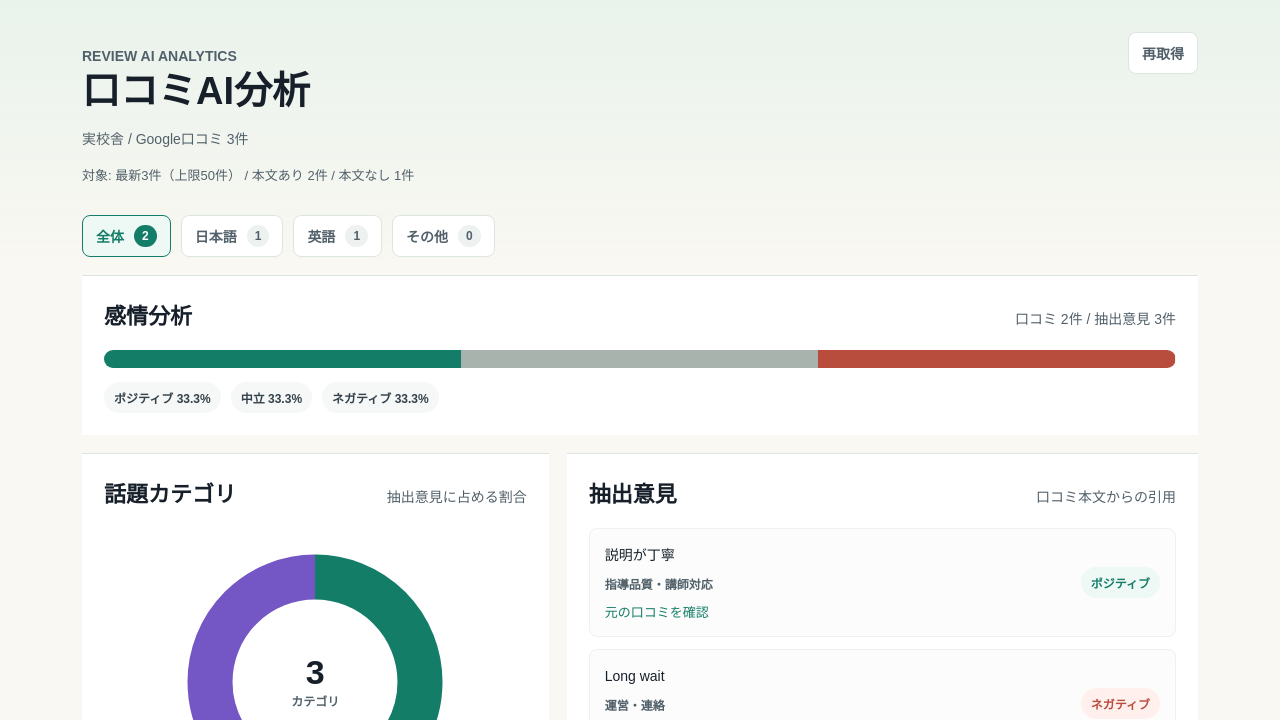
Test: review analytics UI › renders actual counts, quoted opinions, and filters without further AI requests
Expected: the text "実校舎 / Google口コミ 3件" is shown, [82,131,248,147]
Expected: the text "ポジティブ 33.3%" is shown, [104,382,221,413]
Click the button "日本語 1" at (232, 236), box [181,215,283,257]
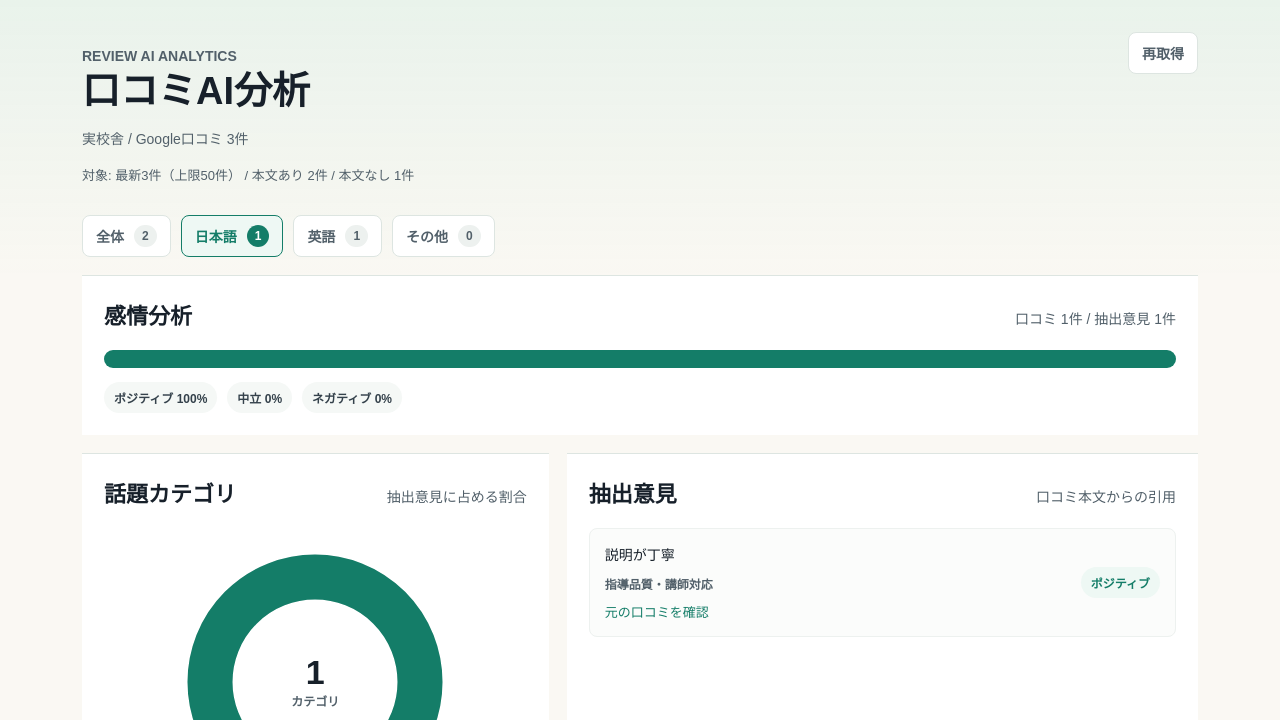
Now the text "ポジティブ 100%" is shown, box [104,382,217,413]
Now the text "Long wait" is gone
Click the button "英語 1" at (338, 236), box [293,215,382,257]
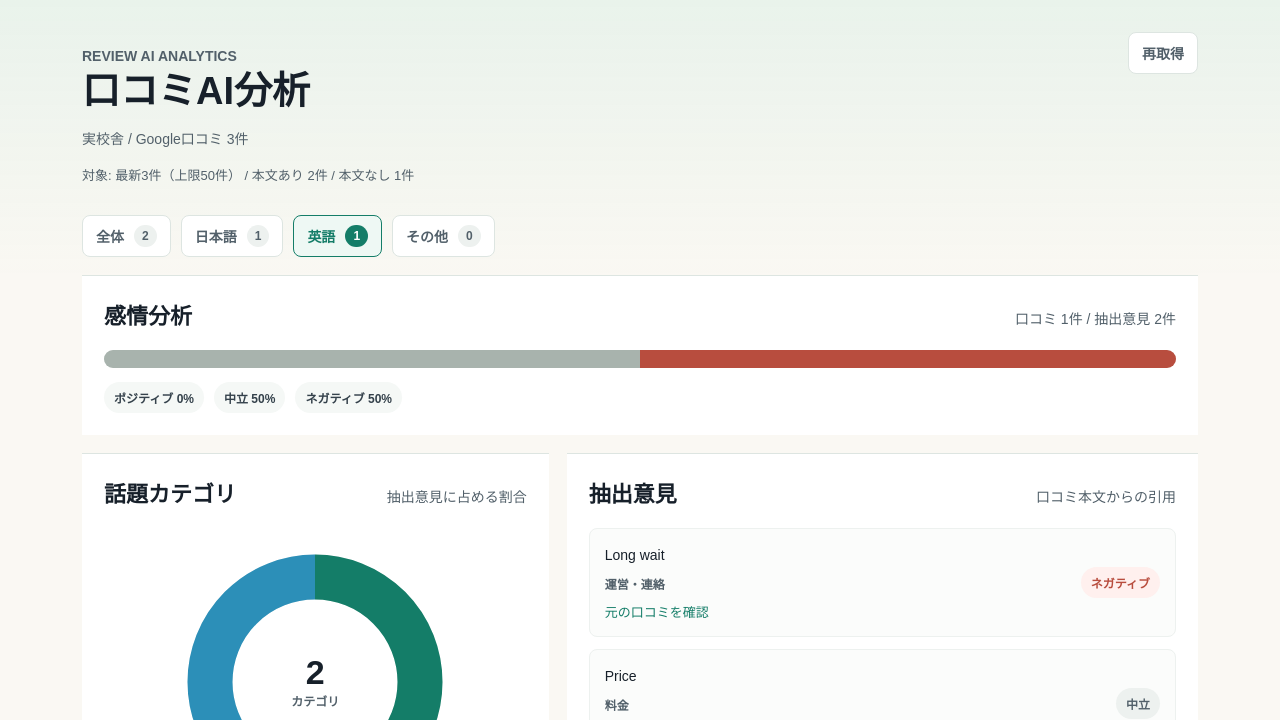
Now the text "Long wait" is shown, box [605,547,664,563]
Now the text "ネガティブ 50%" is shown, box [295,382,402,413]
Click the button "その他 0" at (443, 236), box [392,215,495,257]
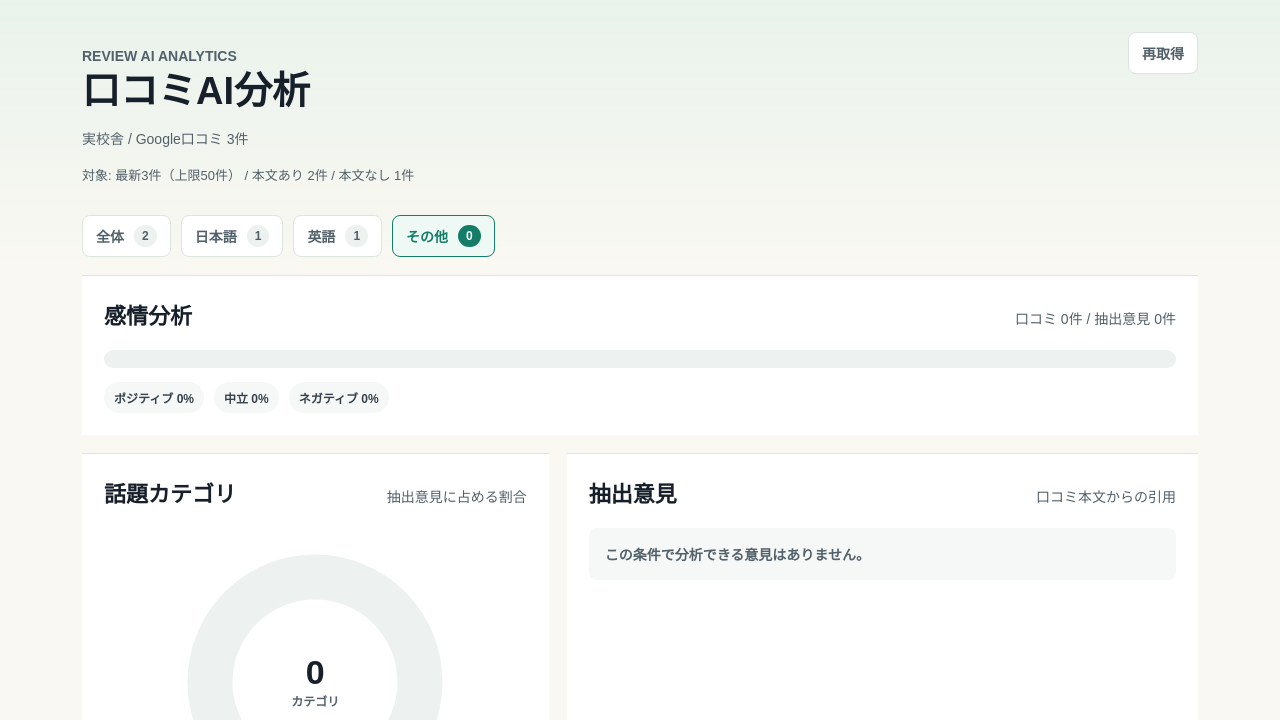
Now the text "この条件で分析できる意見はありません。" is shown, box [589,528,1176,580]
Click the button "全体 2" at (126, 236), box [82,215,171,257]
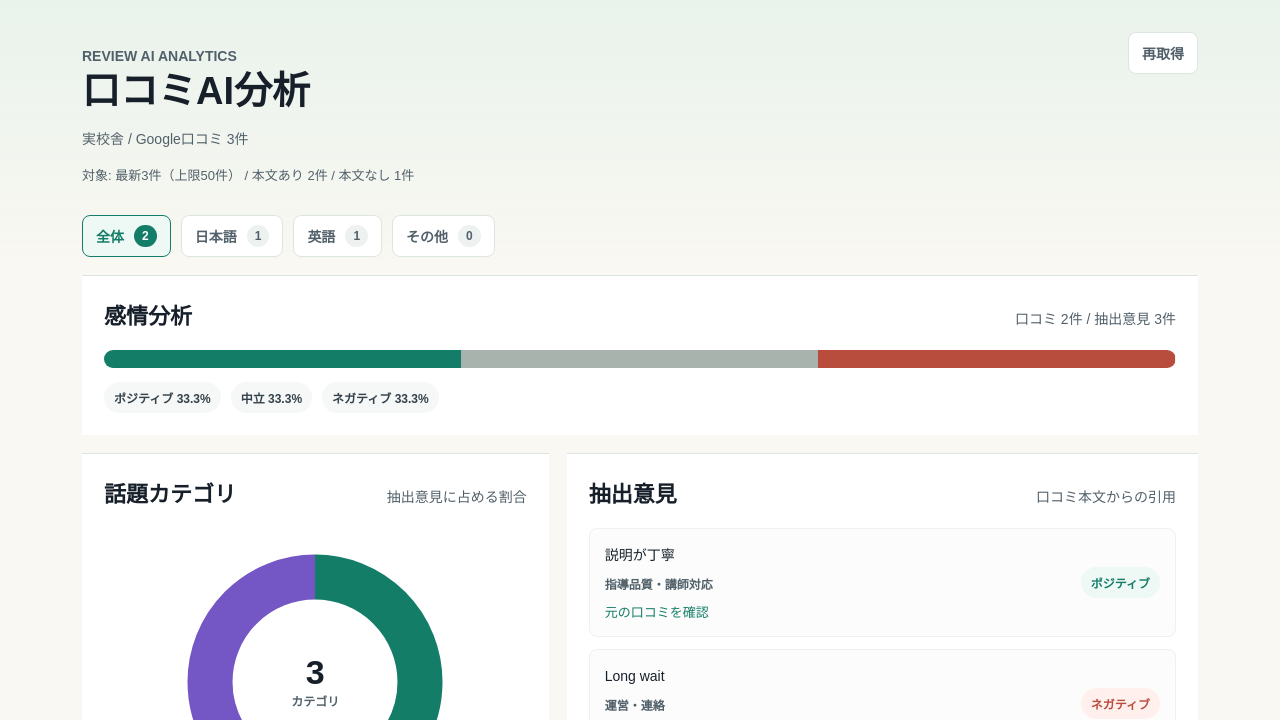
Now the text "説明が丁寧" is shown, box [605,547,675,563]
